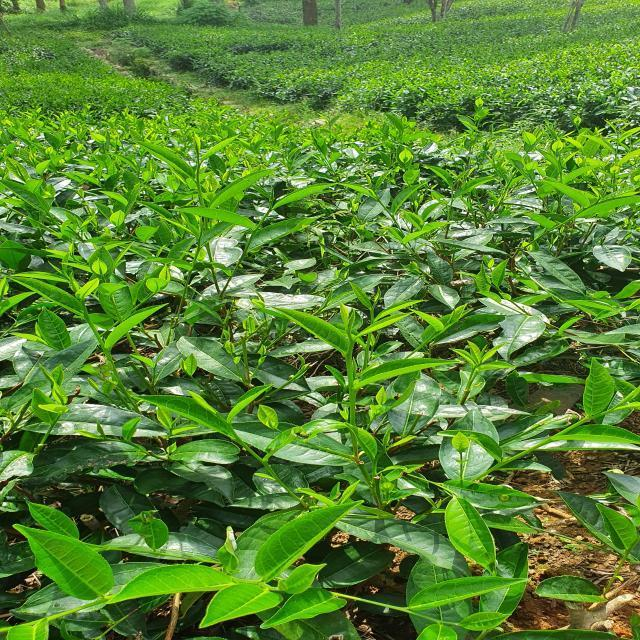Stem: (345, 356, 354, 378), (226, 423, 236, 436), (84, 314, 94, 327), (602, 407, 615, 415), (196, 182, 201, 192), (378, 199, 384, 206), (371, 309, 374, 321)
